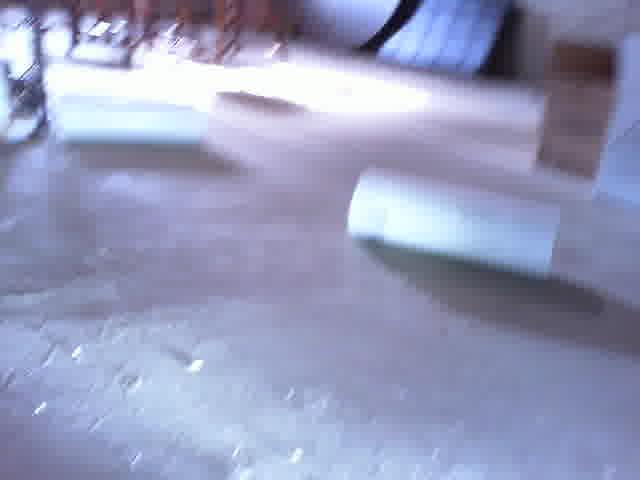coral: (345, 162, 569, 284), (44, 60, 212, 151)
